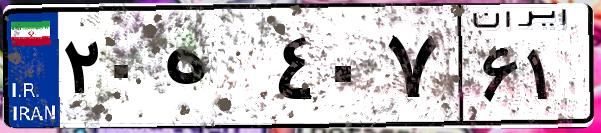0: (330, 28, 385, 110), (110, 28, 158, 98)
1: (525, 38, 570, 115)
2: (57, 26, 110, 100)
4: (270, 28, 330, 110)
6: (475, 38, 525, 113)
7: (385, 28, 445, 110)
ه: (158, 20, 270, 120)
